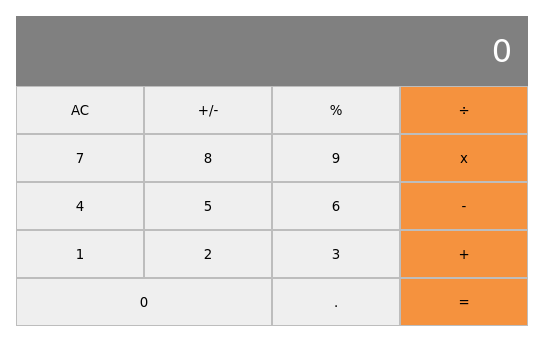
Scenario: Integration Testing: User interactivity › 1 should display on screen when btn 1 is clicked
Click the button "1" at {"x": 80, "y": 254}, box 16,230 -> 144,278
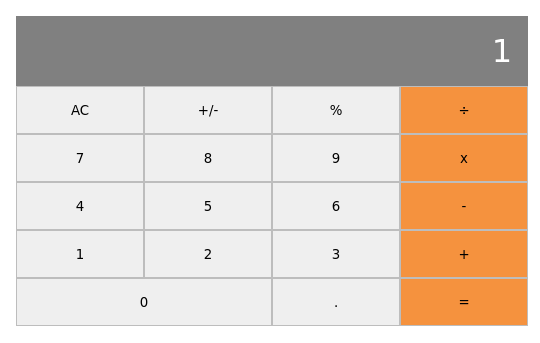
Expected: the element with test id "calc-screen" reads "1", 492,32 -> 512,70
